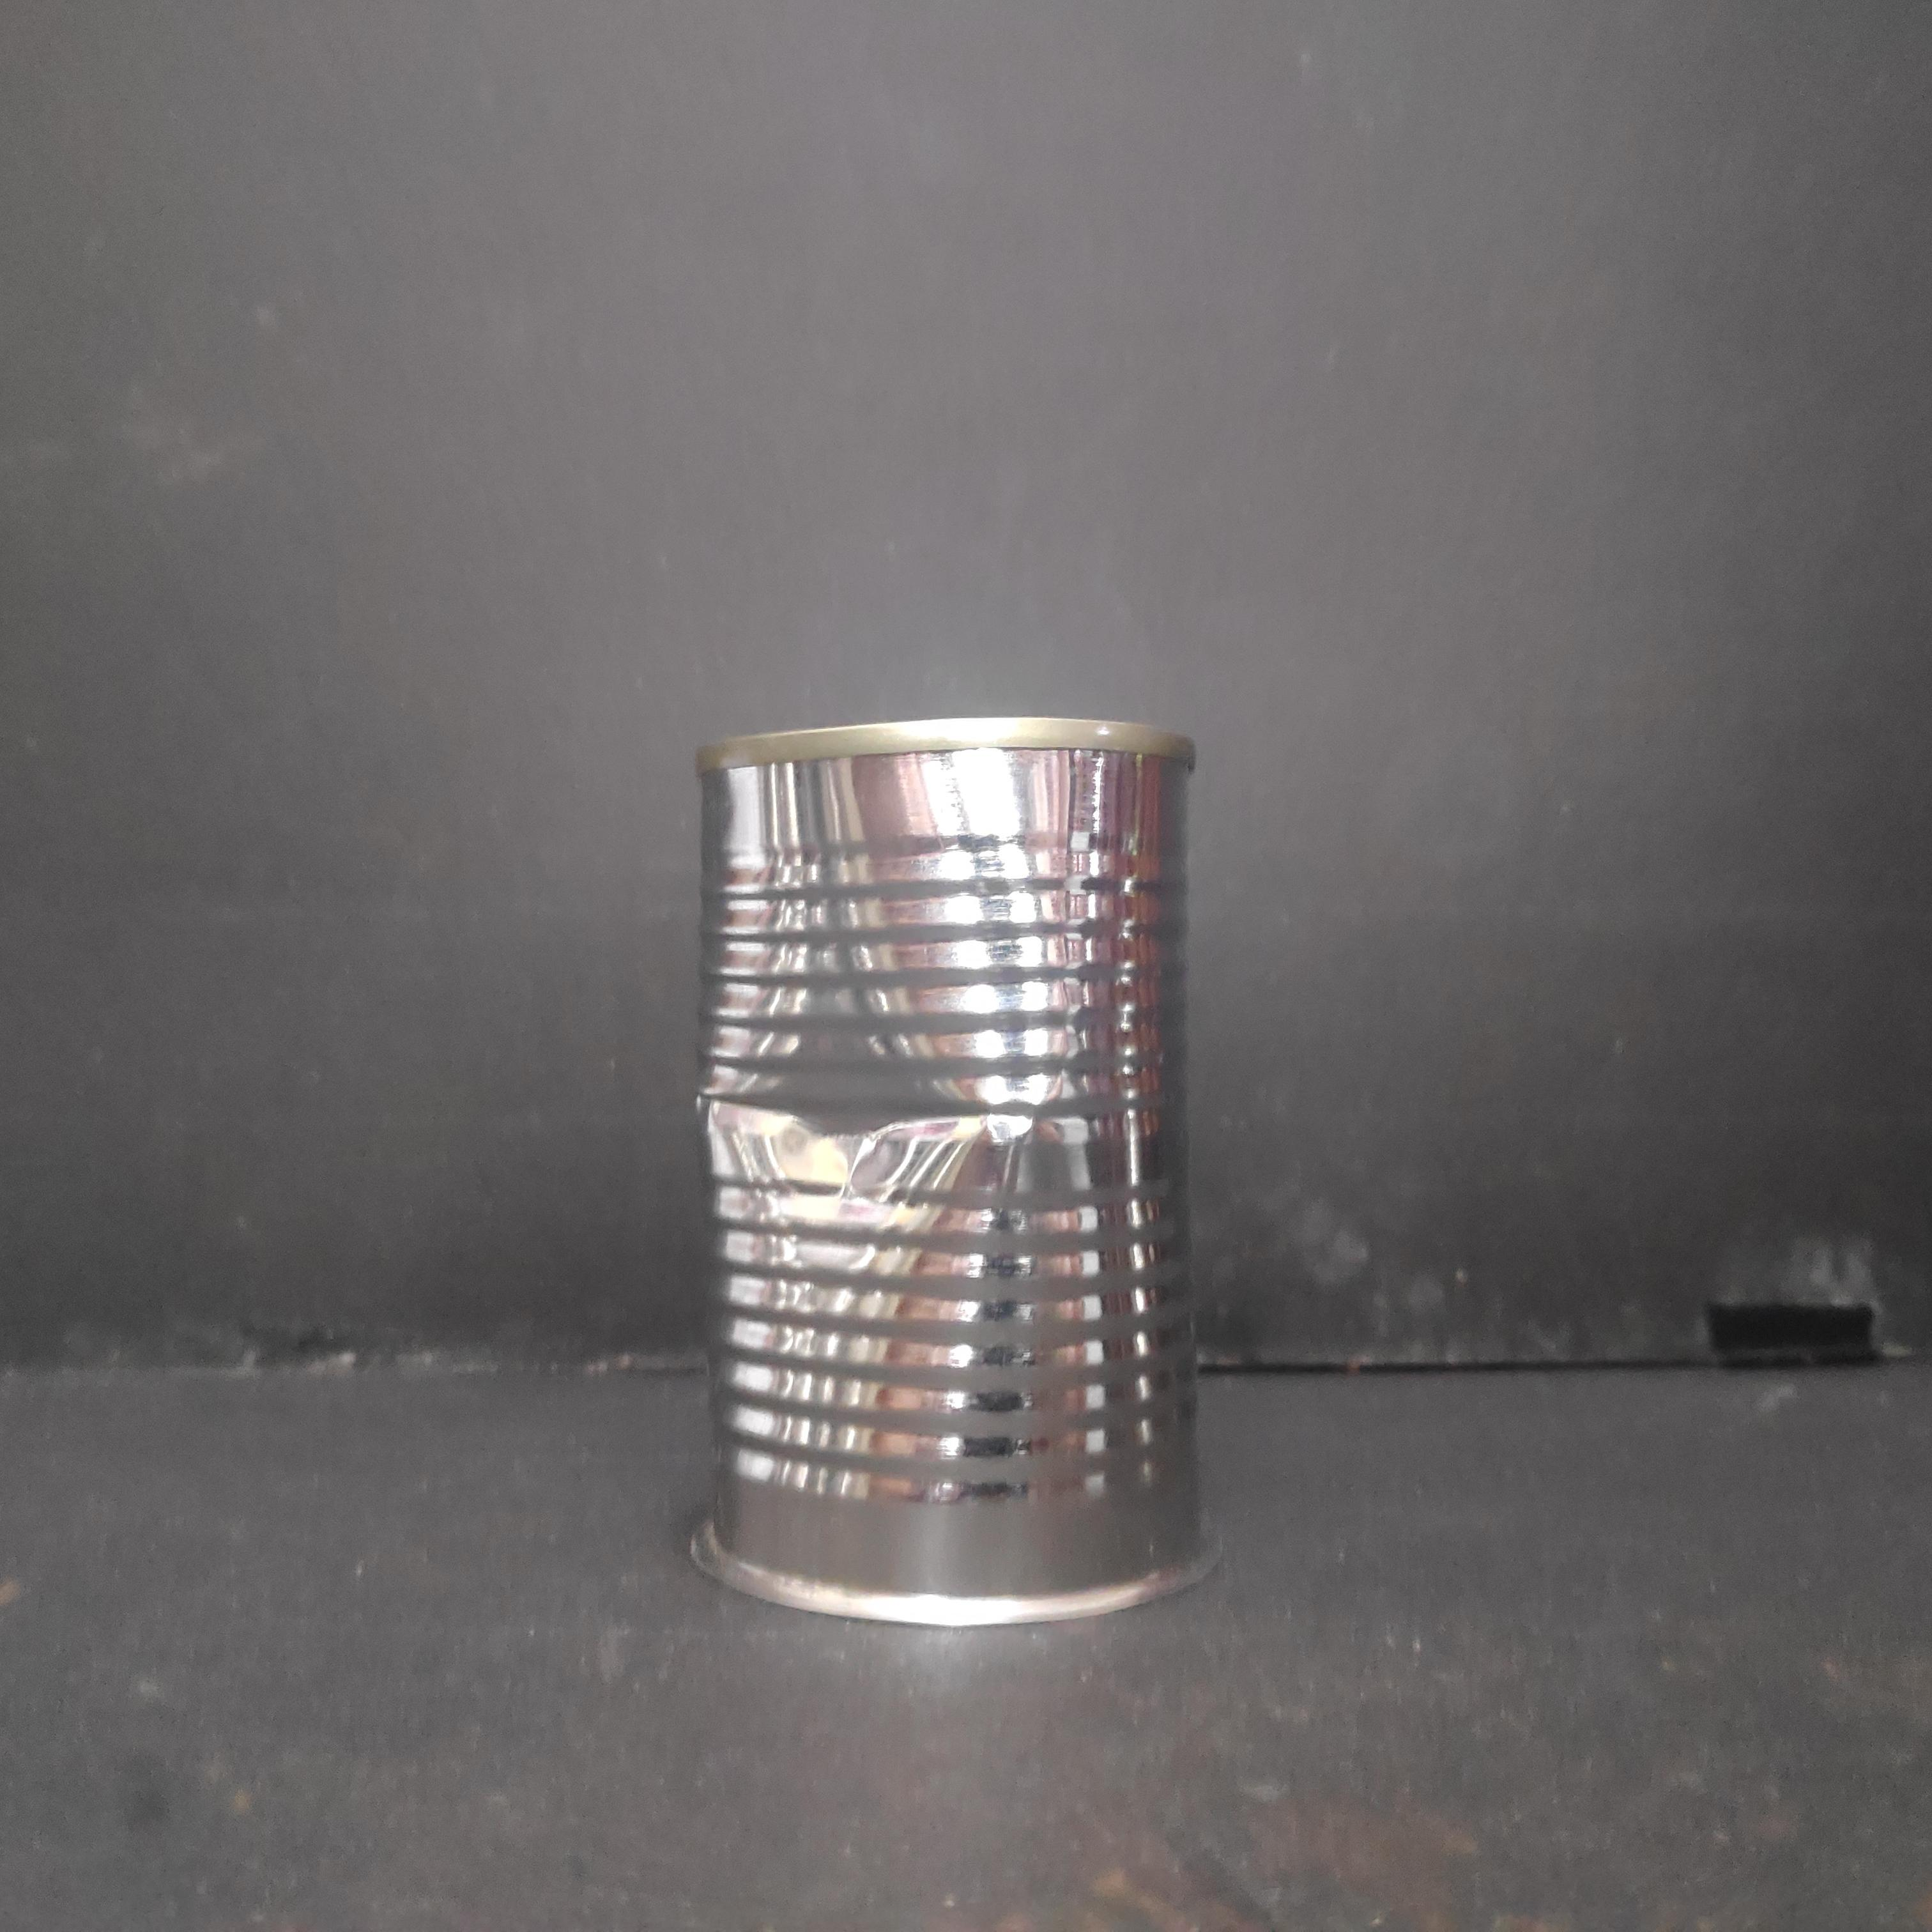Minor Defect: (676, 706, 1215, 1640)
